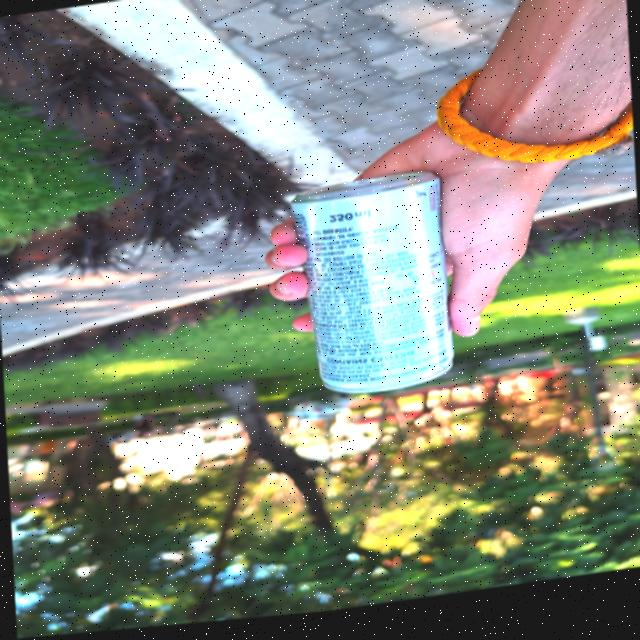Redbull Summer Edition: (296, 179, 463, 408)
